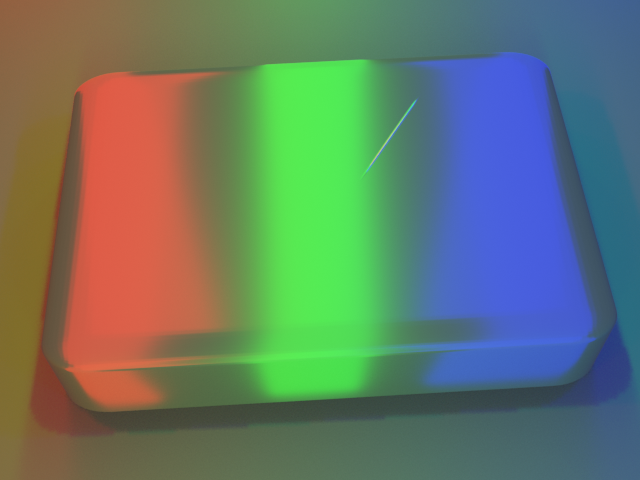scratch: (200, 37, 596, 238)
